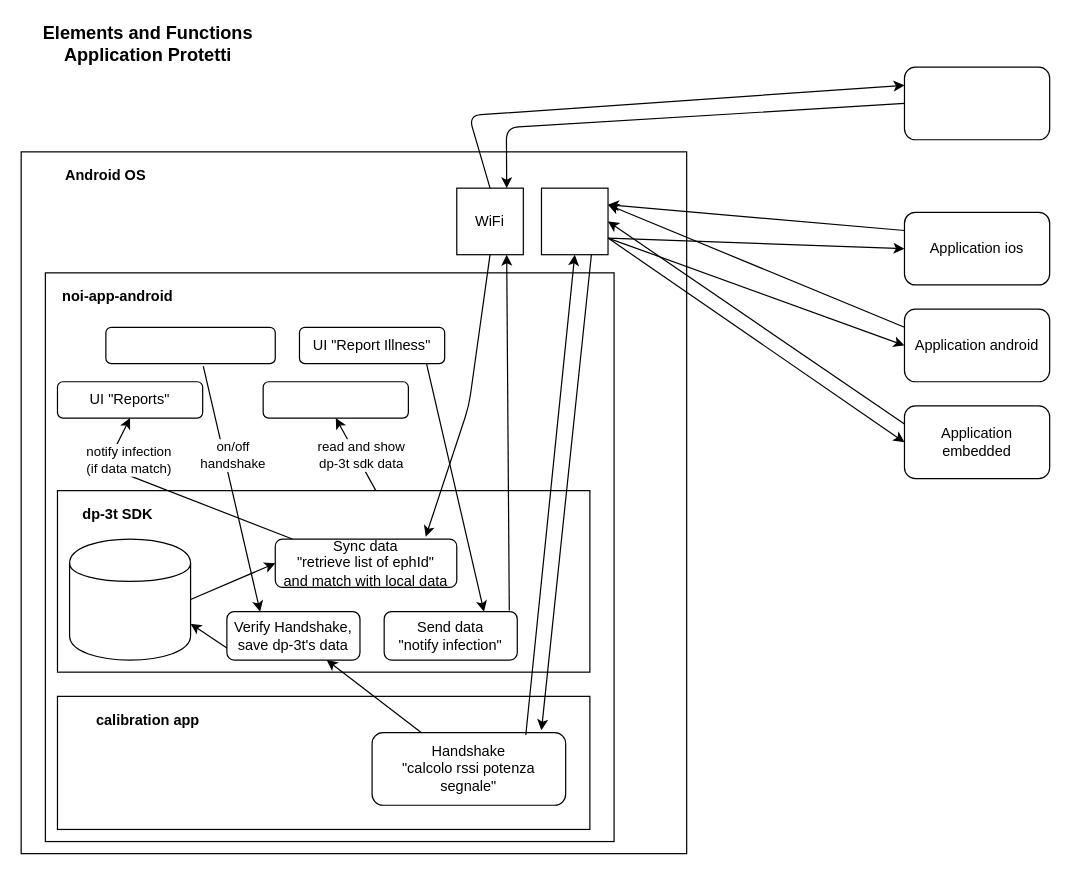
The diagram is 1071 pixels wide and 875 high, and some of its shapes have lost their labels. Each missing label, with the centre of its shape:
Backend server: the point at 976,103
Bluetooth: the point at 574,221
storage ephContacts: the point at 129,599
UI "Encounters" - Tracing (switch on/off): the point at 190,345
UI DEBUG functions: the point at 335,399
